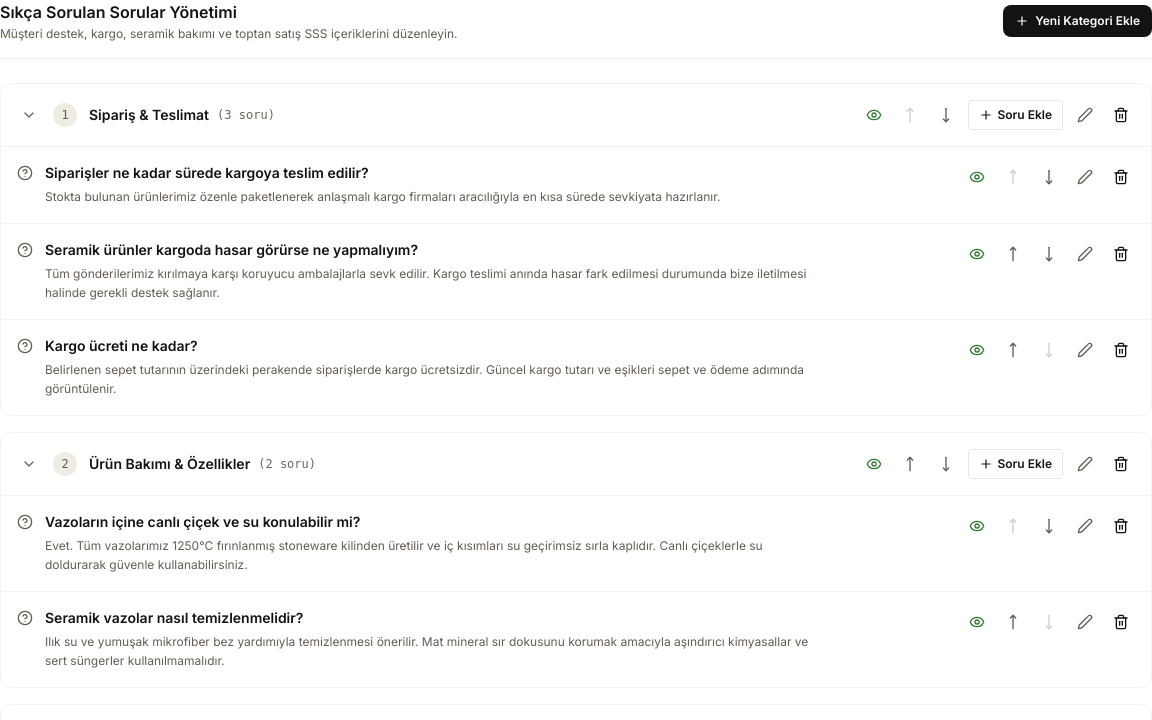
Test: AdminFaqTab Component › opens category modal on clicking Yeni Kategori Ekle
The width and height of the screenshot is (1152, 720).
Check: the text "Yeni Kategori Ekle" is shown, box [1035,13,1140,29]
Click the button "Yeni Kategori Ekle" at (1078, 21), box [1003,5,1151,37]
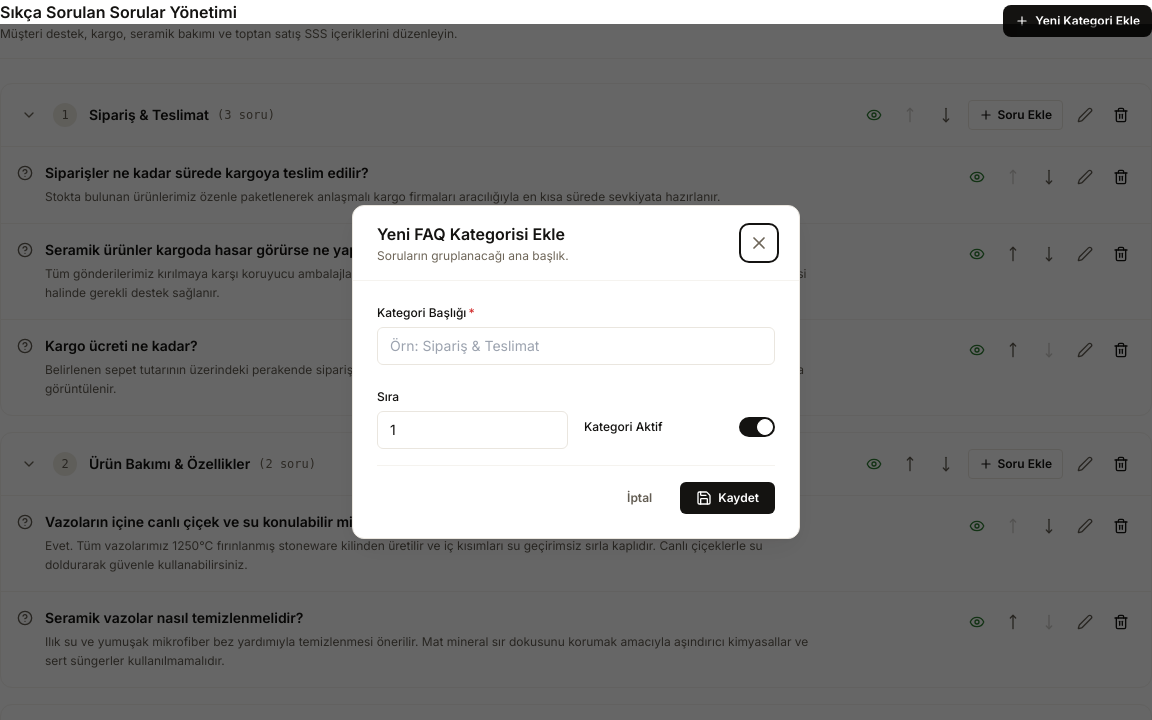
Check: the heading "Yeni FAQ Kategorisi Ekle" is shown, box [377,222,569,246]
Check: the text "Kategori Başlığı" is shown, box [377,305,466,320]
